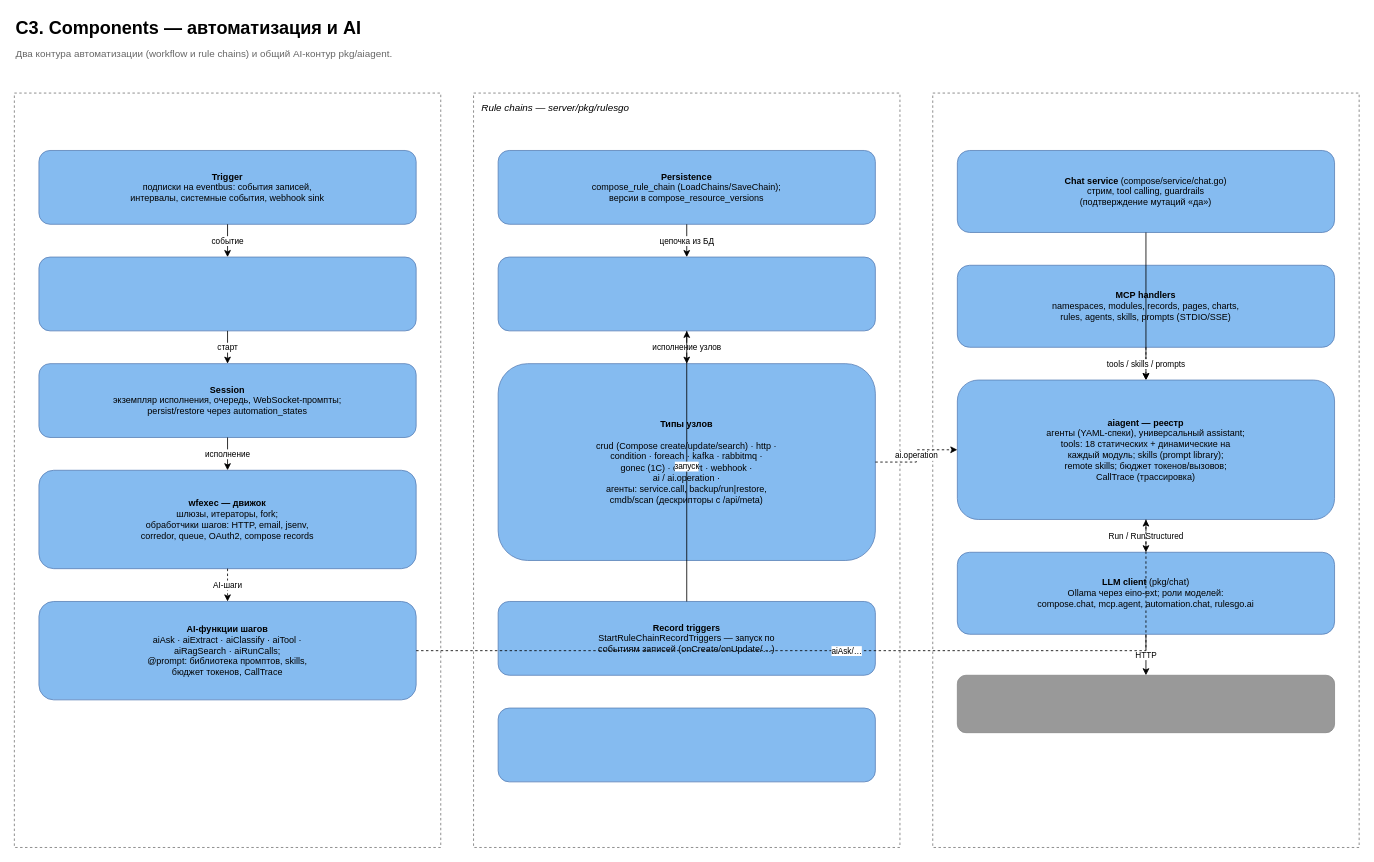
The diagram is 1374 pixels wide and 862 high, and some of its shapes have lost their labels. The shapes that lost their labels are listed below. From the top down, each one's box as (x1, y1, x2, y2) in pixels, then its label:
(38, 256, 416, 331): Workflow граф шагов, кэш скомпилированных графов; BPMN → граф (bpmn_compile)
(497, 256, 875, 331): Engine исполнение узлов, корреляция с automation; мост: compose.runRuleChain
(14, 92, 441, 847): Automation — server/automation + pkg/wfexec
(932, 92, 1359, 847): AI — pkg/aiagent + pkg/chat
(957, 674, 1335, 733): Ollama [внешний]
(497, 707, 875, 782): Мосты wfexec → compose.runRuleChain; узел workflow → ExecWorkflowByRef
